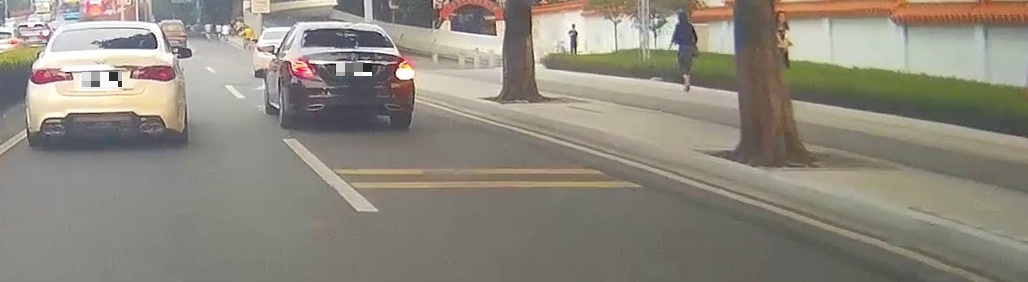L_light: (288, 57, 322, 81), (29, 67, 73, 85)
R_light: (129, 63, 176, 82), (388, 59, 414, 81)
T_light: (337, 28, 353, 33), (96, 28, 112, 31)
day-no: (25, 20, 184, 148)
day-right: (285, 21, 416, 129)
plate_1: (82, 72, 122, 87)
plate_2: (336, 63, 372, 76)
